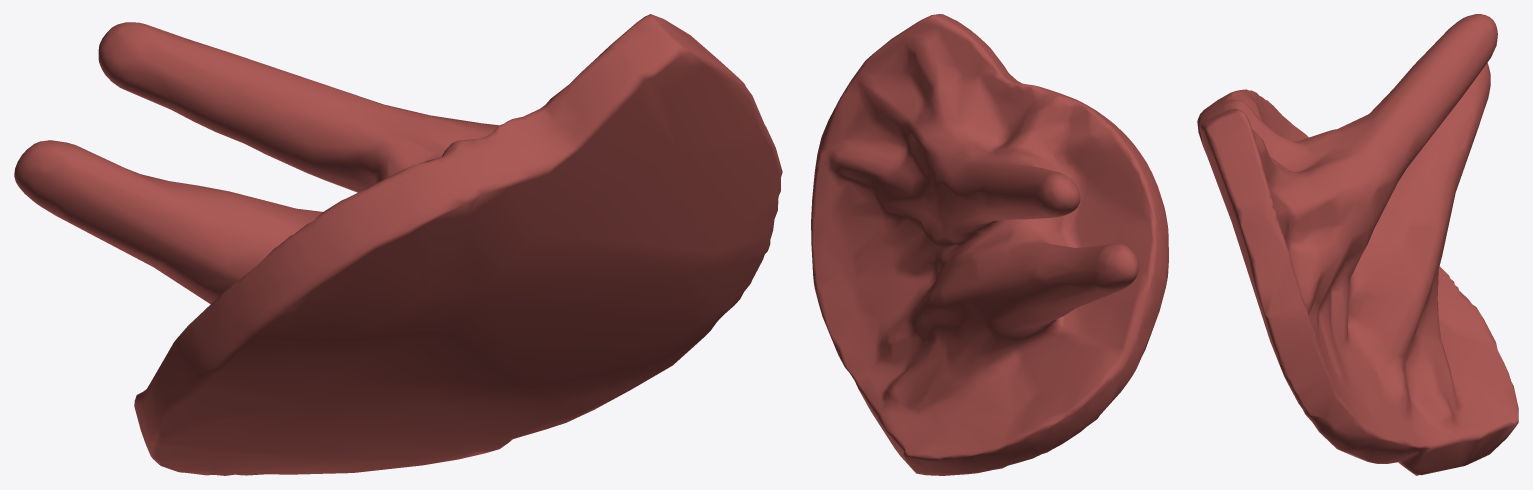
File: FMA7260.glb
3 views of the same model, side by side, from view 1: azimuth 30°, elevation 25°; view 2: azimuth 150°, elevation 25°; view 3: azimuth 270°, elevation 25° (orthographic). The views are drawn at different scales.
Visible parts, largest first — view 1: FMA7260; view 2: FMA7260; view 3: FMA7260.
Boxes of the visible parts, left/top/right/bottom form: FMA7260: left=14, top=14, right=782, bottom=475; FMA7260: left=811, top=14, right=1168, bottom=475; FMA7260: left=1197, top=14, right=1518, bottom=475.
Size of the model in its own units: 0.0353 by 0.0294 by 0.0216.
